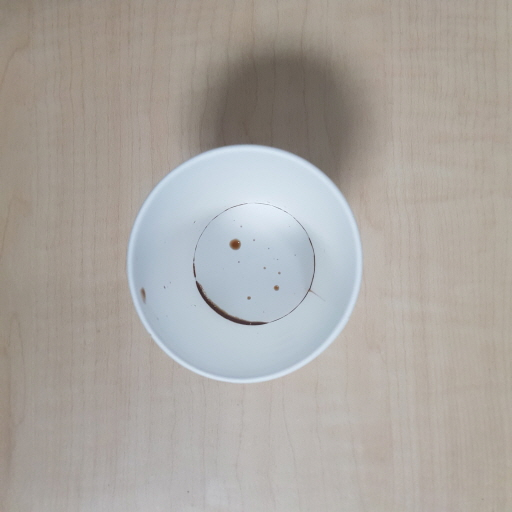Paper_1: (123, 141, 367, 382)
